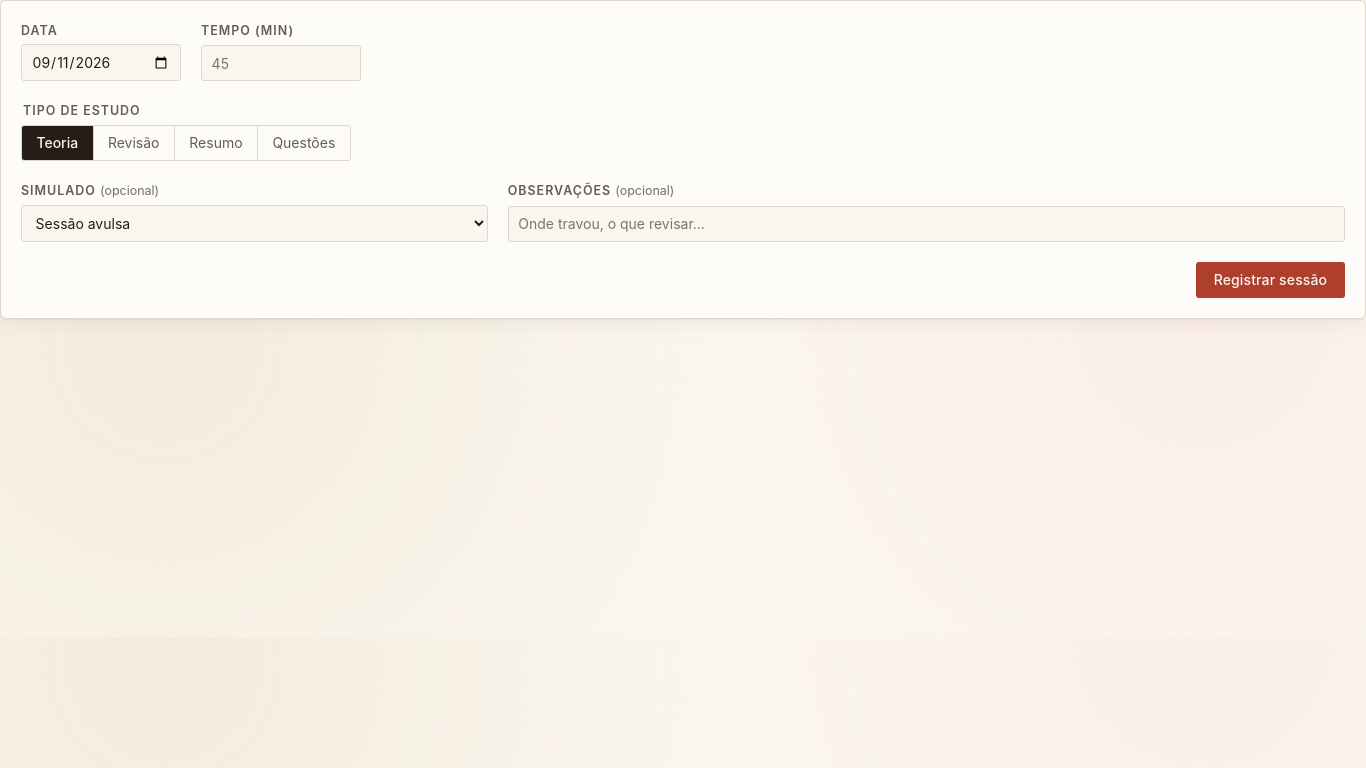
Test case: FormularioSessao — parte dinamica › escolher "Questoes" revela os tres contadores
Click the radio button labelled "Questões" at (304, 143), box [272,134,335,151]
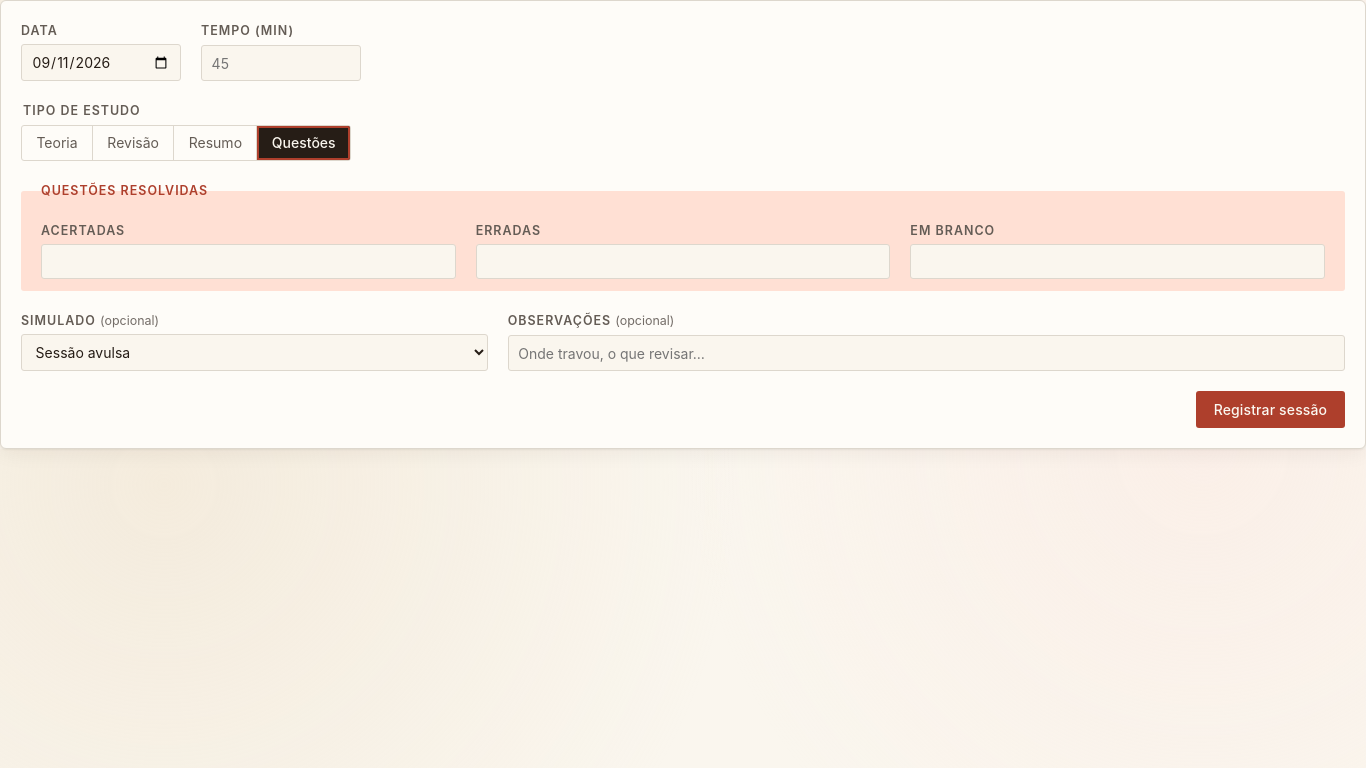
expect the number field labelled "Acertadas" is shown: met, box [41,244,456,279]
expect the number field labelled "Erradas" is shown: met, box [476,244,890,279]
expect the number field labelled "Em branco" is shown: met, box [910,244,1325,279]
